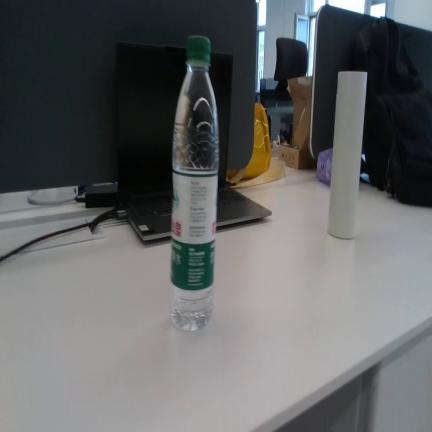bottle: (170, 35, 219, 331)
